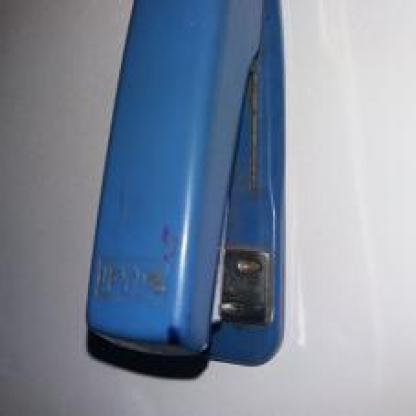stapler: (74, 0, 300, 386)
